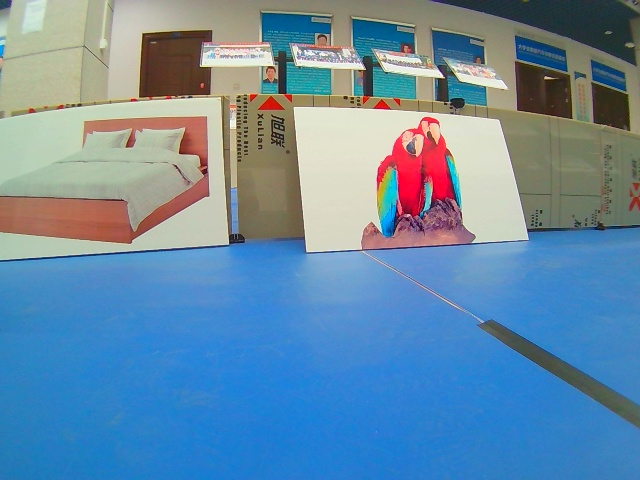bed: (1, 98, 231, 263)
pet: (293, 107, 529, 254)
